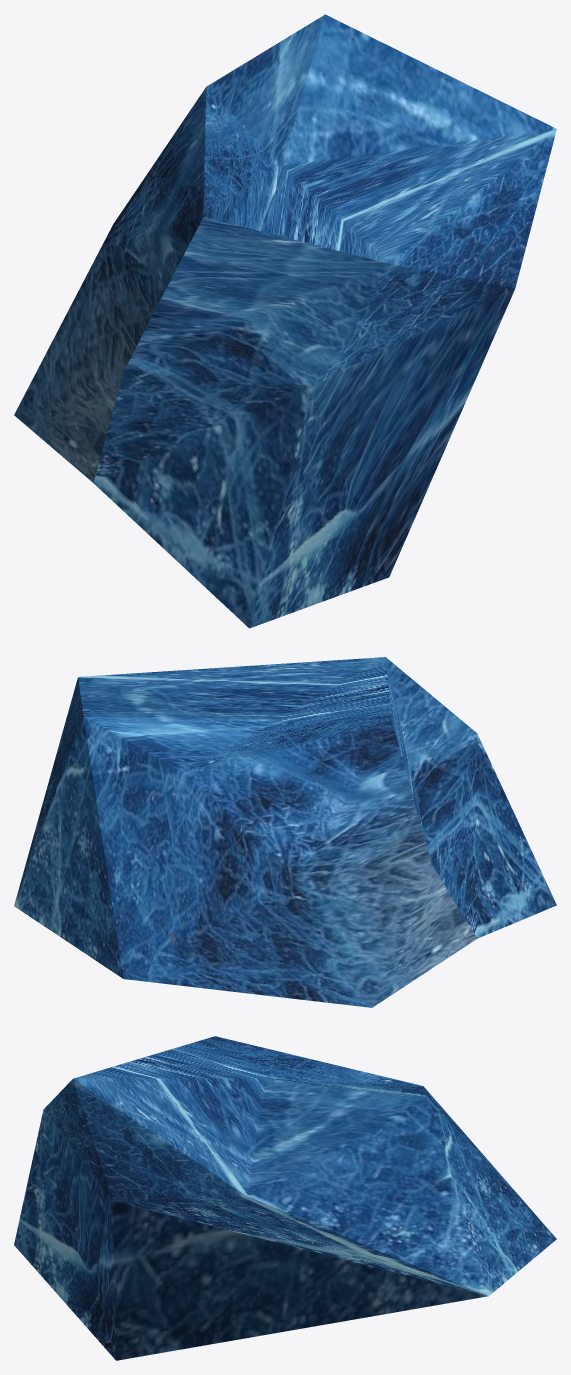
The model's file is rock.fbx.
3 renders of one model, top to bottom at view 1: azimuth 30°, elevation 25°; view 2: azimuth 150°, elevation 25°; view 3: azimuth 270°, elevation 25°, orthographic. The views are drawn at different scales.
Visible parts, largest first — view 1: rock; view 2: rock; view 3: rock.
Part boxes in pixels (x1,y1,x2,y2): rock: [14, 14, 556, 628]; rock: [14, 657, 556, 1007]; rock: [14, 1036, 556, 1360].
Size of the model in its own units: 19.46 by 15.01 by 23.74.
Materials: 1 (1 with a texture image).
